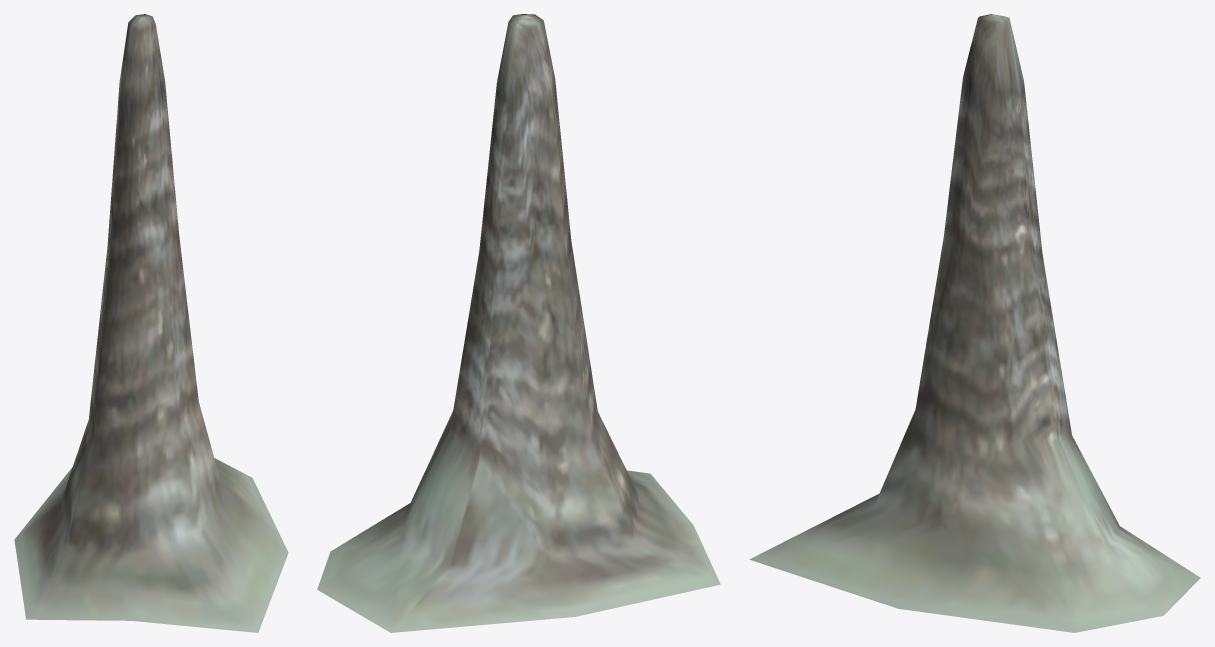
The model's file is TROLLHOLE02_PS-SECRETSTALAG20.fbx.
The picture shows the model from 3 angles, left to right: view 1: azimuth 30°, elevation 25°; view 2: azimuth 150°, elevation 25°; view 3: azimuth 270°, elevation 25°; orthographic projection. The views are drawn at different scales.
Visible parts, largest first — view 1: TROLLHOLE02_PS-SECRETSTALAG20; view 2: TROLLHOLE02_PS-SECRETSTALAG20; view 3: TROLLHOLE02_PS-SECRETSTALAG20.
Boxes of the visible parts, x1,y1,x2,y2 form: TROLLHOLE02_PS-SECRETSTALAG20: (14,14,288,632); TROLLHOLE02_PS-SECRETSTALAG20: (317,14,720,632); TROLLHOLE02_PS-SECRETSTALAG20: (749,14,1200,632).
Bounding box in the file's own units: 21505 × 36660 × 26962.
1 material, 1 textured.
